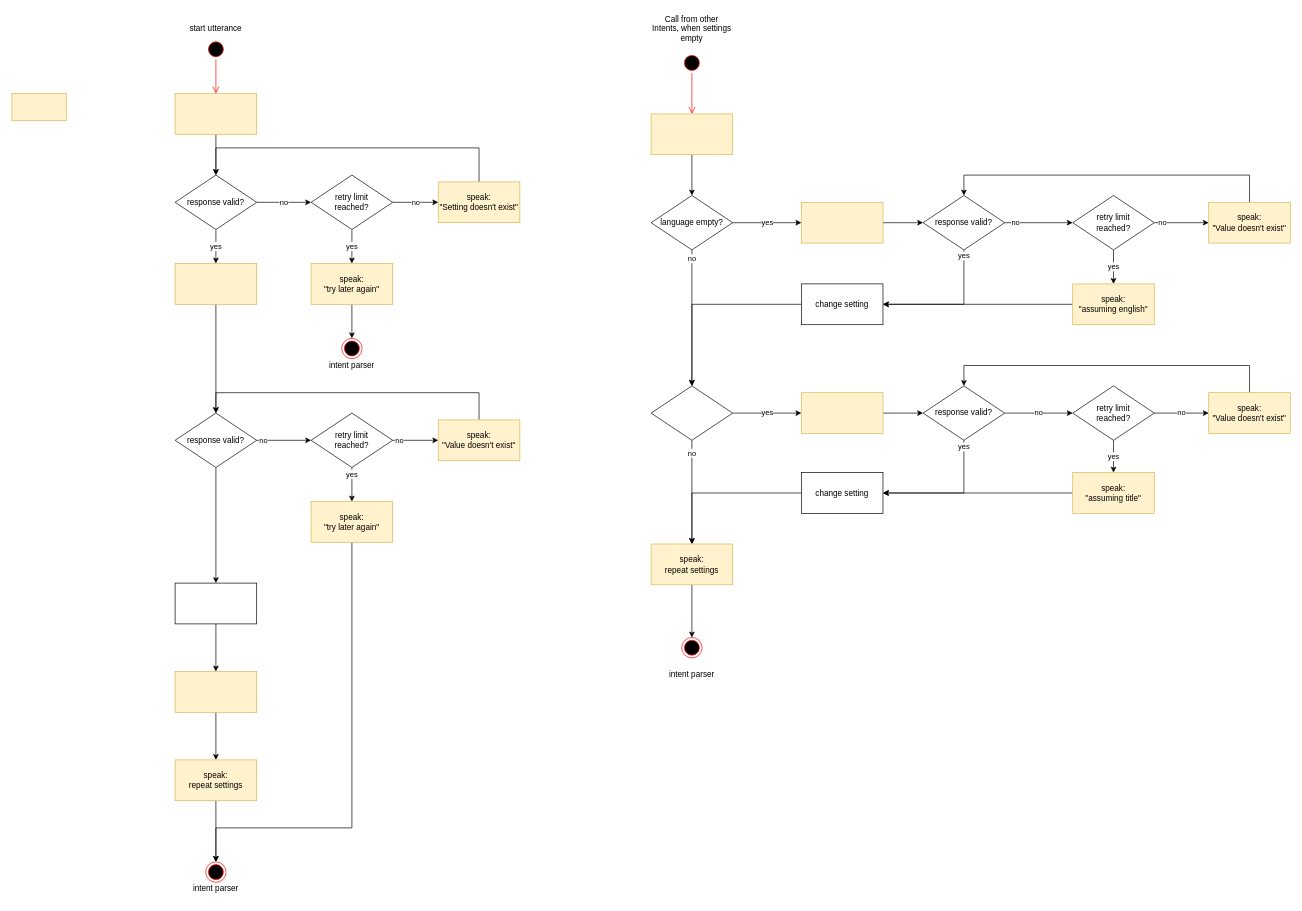
Image size: 1302x911. Some labels were removed from this diagram. The centre of each missing label's shape, as x and y in pixels:
change settings: (215,603)
speak dialogs: (38,107)
speak: "Alright": (215,691)
speak: "not set": (691,134)
speak: "Which language?": (842,222)
speak: "Which setting?": (215,113)
speak: "Which title?": (842,413)
speak: "Which value?": (215,283)
title empty?: (691,412)
